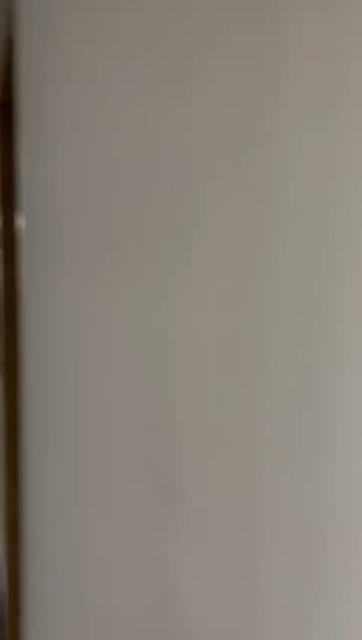wall: (12, 4, 361, 640)
